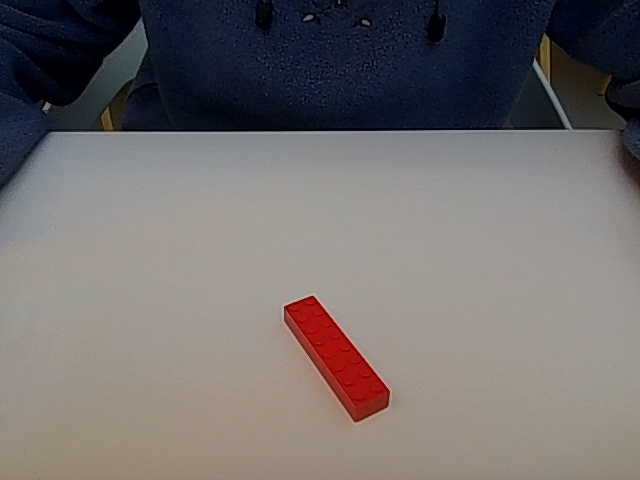lego: (280, 289, 395, 426)
